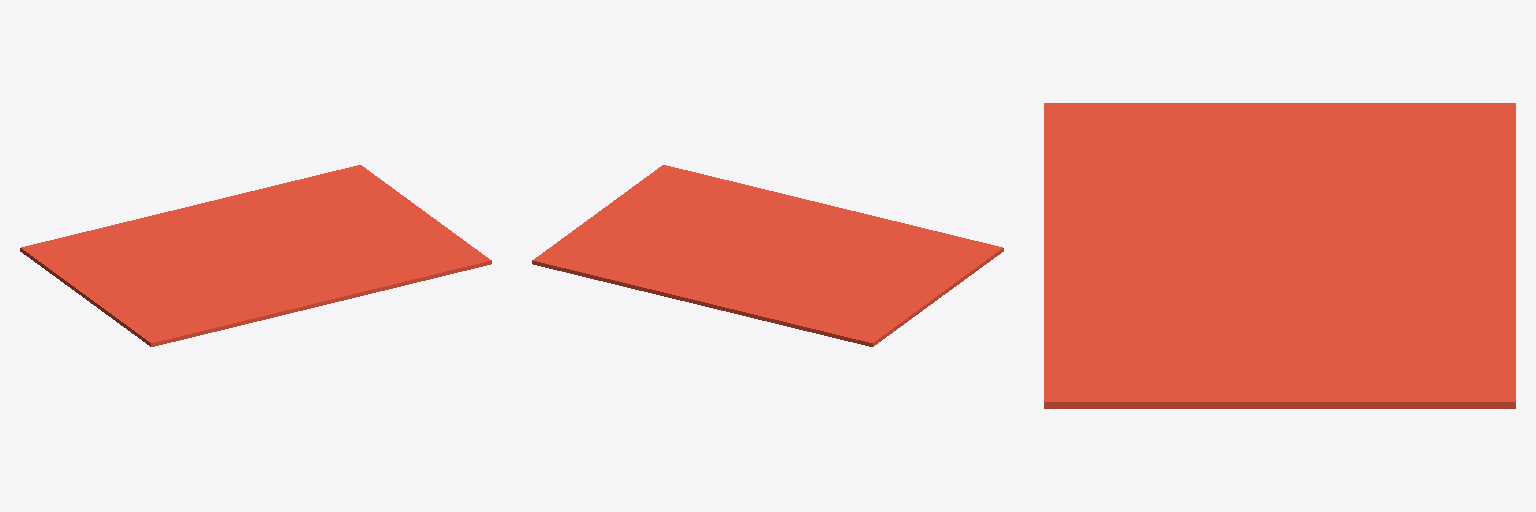
URDF robot description (ground):
<?xml version="1.0"?>
<!--
  Derived from hpp_practicals' urdf/ur_benchmark/ground.urdf (LGPL v2,
  Florent Lamiraux / Guilhem Saurel, LAAS-CNRS) — same flat box, just
  bigger and re-centered. The original 1x1m box is centered at world
  origin, which only covers panda_left's base (at world X=0); panda_right
  (at world X=1.1, per twin_lift_ball_config.yaml's arm separation) sits
  entirely off it. This one is 1.8x1.2m, centered at X=0.55 — the arms'
  own midpoint (also the ball's X position) — with margin past each arm's
  ~0.855m reach envelope on both ends.
-->
<robot name="ground">
  <link name="ground_base">
    <visual>
      <geometry>
        <box size="1.8 1.2 0.02"/>
      </geometry>
      <origin xyz="0.55 0 -0.01"/>
      <material name="Orange">
        <color rgba="1 0.4 0.3 0.6"/>
      </material>
    </visual>
    <collision>
      <geometry>
        <box size="1.8 1.2 0.02"/>
      </geometry>
      <origin xyz="0.55 0 -0.02"/>
    </collision>
  </link>
</robot>

--- Facts derived from the render (not from the file) ---
3 views of the same robot in one strip: view 1: azimuth 30°, elevation 25°; view 2: azimuth 150°, elevation 25°; view 3: azimuth 270°, elevation 25° (orthographic).
Model ground with 1 links and 0 joints (none), rooted at ground_base, posed all joints at 0.
Visible links, largest first — view 1: ground_base; view 2: ground_base; view 3: ground_base.
Boxes of the visible links, x1,y1,x2,y2 form: ground_base: (20,165,491,346); ground_base: (532,165,1003,346); ground_base: (1044,103,1515,408).
Bounding box of the posed robot: 1.8 × 1.2 × 0.02 m (x, y, z).
Geometry: primitives only (box / cylinder / sphere), no mesh files.
